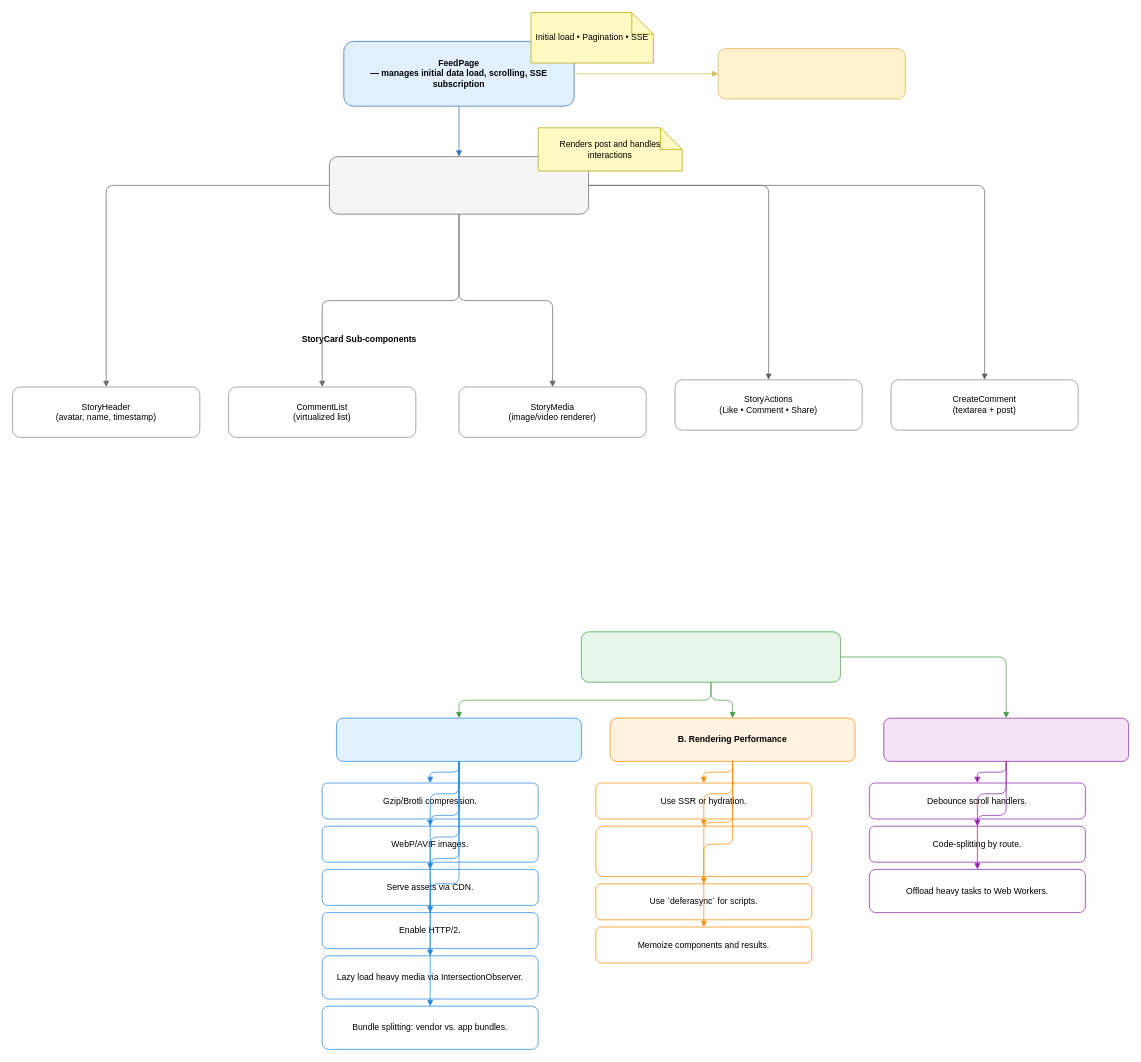
Image size: 1141x1062. Some labels were removed from this diagram. The box of each missing label's shape, as (x1, y1, x2, y2) in pixels:
A. Network Performance: (336, 717, 581, 761)
C. JS Performance: (883, 717, 1129, 761)
InfiniteScrollLoader (sentinel element): (717, 48, 905, 99)
Optimization Strategies: (581, 631, 841, 682)
StoryCard: (329, 156, 589, 214)
Virtualized list rendering (React Window / VirtualScroller).: (595, 825, 812, 877)
